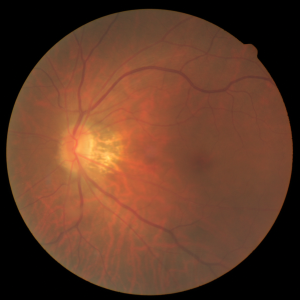retina_disease: (38, 99, 237, 213)
